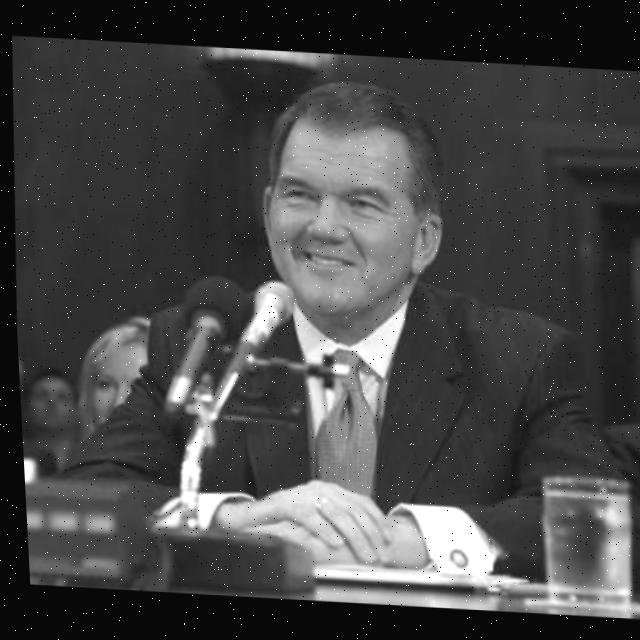face: (255, 110, 430, 327)
